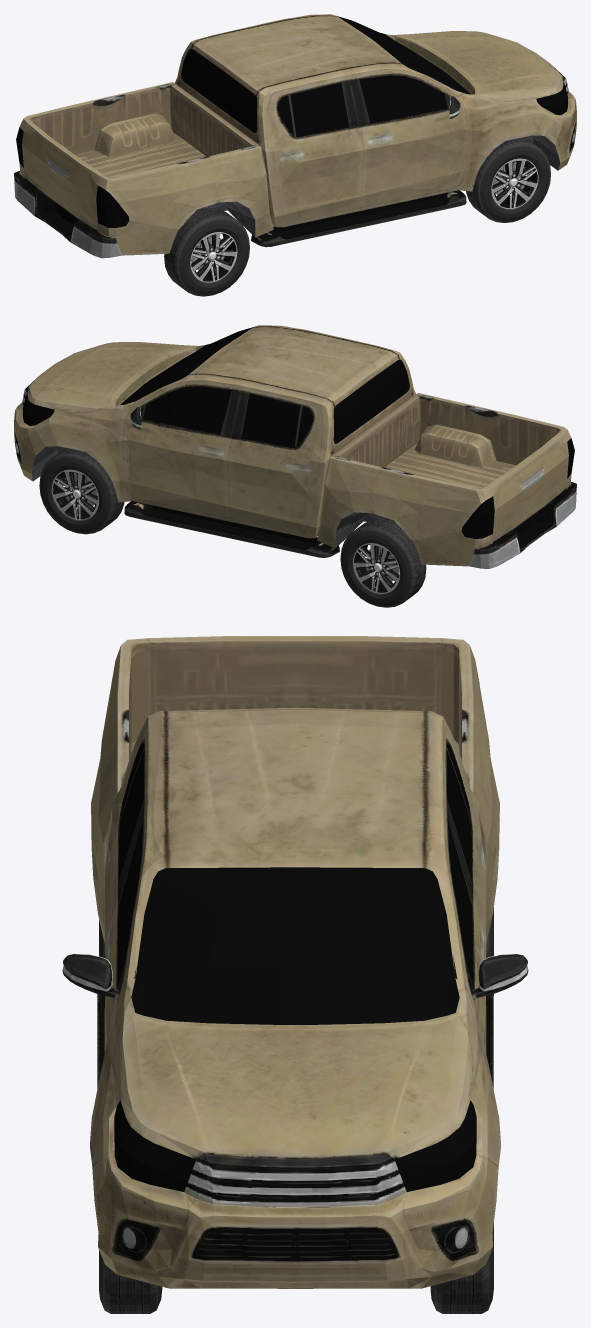
Rendered from Truck1 1.fbx.
The picture shows the model from 3 angles, top to bottom: view 1: azimuth 30°, elevation 25°; view 2: azimuth 150°, elevation 25°; view 3: azimuth 270°, elevation 25°; orthographic projection. The views are drawn at different scales.
Parts seen in each view (by area): view 1: Body, Glass, BackRightWheel, FrontRightWheel; view 2: Body, Glass, BackLeftWheel, FrontLeftWheel; view 3: Body, Glass, FrontLeftWheel, FrontRightWheel.
Part boxes in pixels (x1=…): Body: x1=14, y1=14, x2=576, y2=258; Glass: x1=16, y1=16, x2=568, y2=227; BackRightWheel: x1=164, y1=208, x2=249, y2=296; FrontRightWheel: x1=466, y1=137, x2=550, y2=222; Body: x1=14, y1=325, x2=576, y2=568; Glass: x1=22, y1=327, x2=574, y2=538; BackLeftWheel: x1=340, y1=519, x2=426, y2=607; FrontLeftWheel: x1=39, y1=448, x2=124, y2=534; Body: x1=62, y1=636, x2=528, y2=1288; Glass: x1=114, y1=679, x2=479, y2=1191; FrontLeftWheel: x1=430, y1=1223, x2=493, y2=1313; FrontRightWheel: x1=99, y1=1250, x2=162, y2=1313.
Size of the model in its own units: 2.16 by 1.89 by 5.39.
